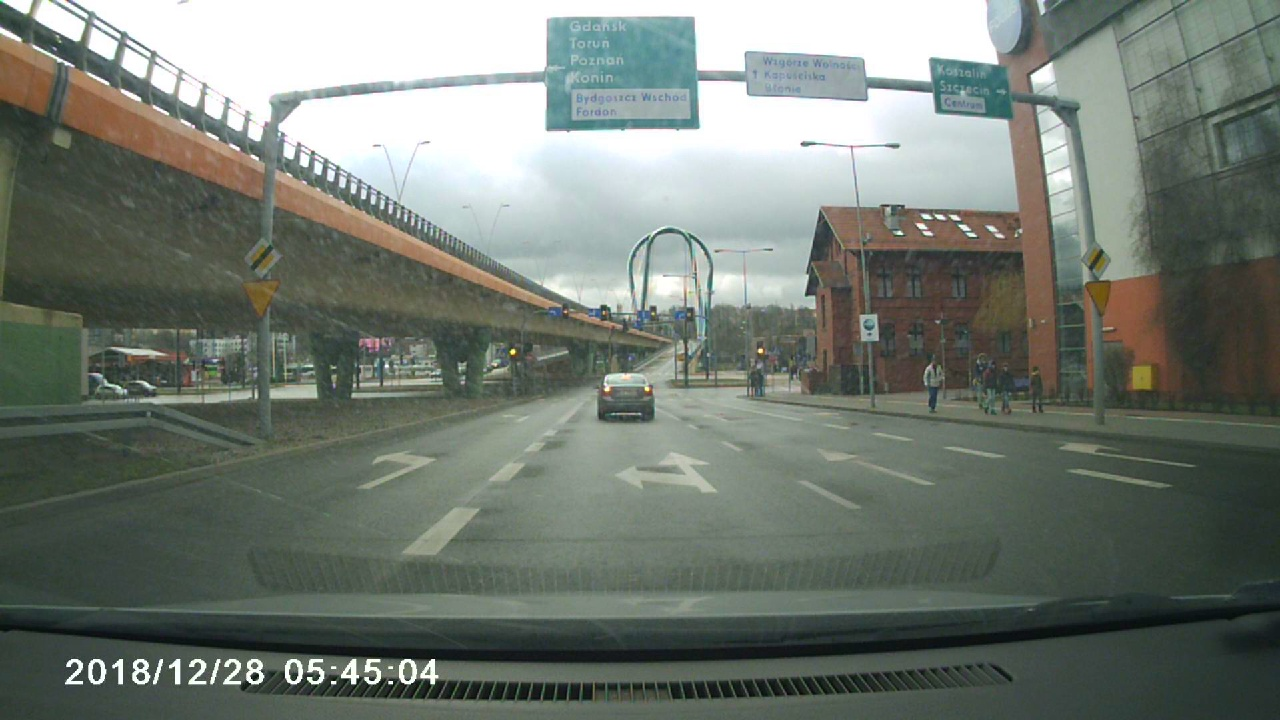A7: (240, 278, 281, 320), (1081, 276, 1119, 319)
D2: (241, 236, 279, 279), (1076, 240, 1114, 276)
